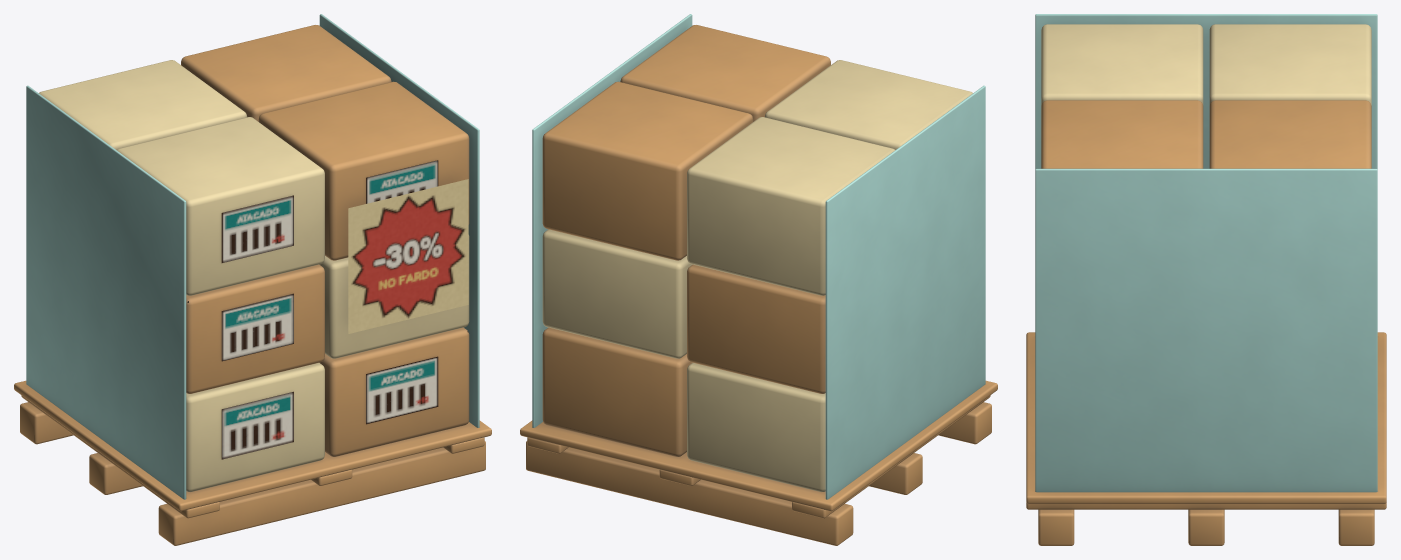
The model's file is WholesalePallet.fbx.
The picture shows the model from 3 angles, left to right: view 1: azimuth 30°, elevation 25°; view 2: azimuth 150°, elevation 25°; view 3: azimuth 270°, elevation 25°; orthographic projection. The views are drawn at different scales.
Parts seen in each view (by area): view 1: WholesalePallet; view 2: WholesalePallet; view 3: WholesalePallet.
Part boxes in pixels (x1,y1,x2,y2): WholesalePallet: (14, 14, 491, 545); WholesalePallet: (520, 14, 997, 545); WholesalePallet: (1026, 14, 1386, 545).
Bounding box in the file's own units: 130 × 137 × 120.
